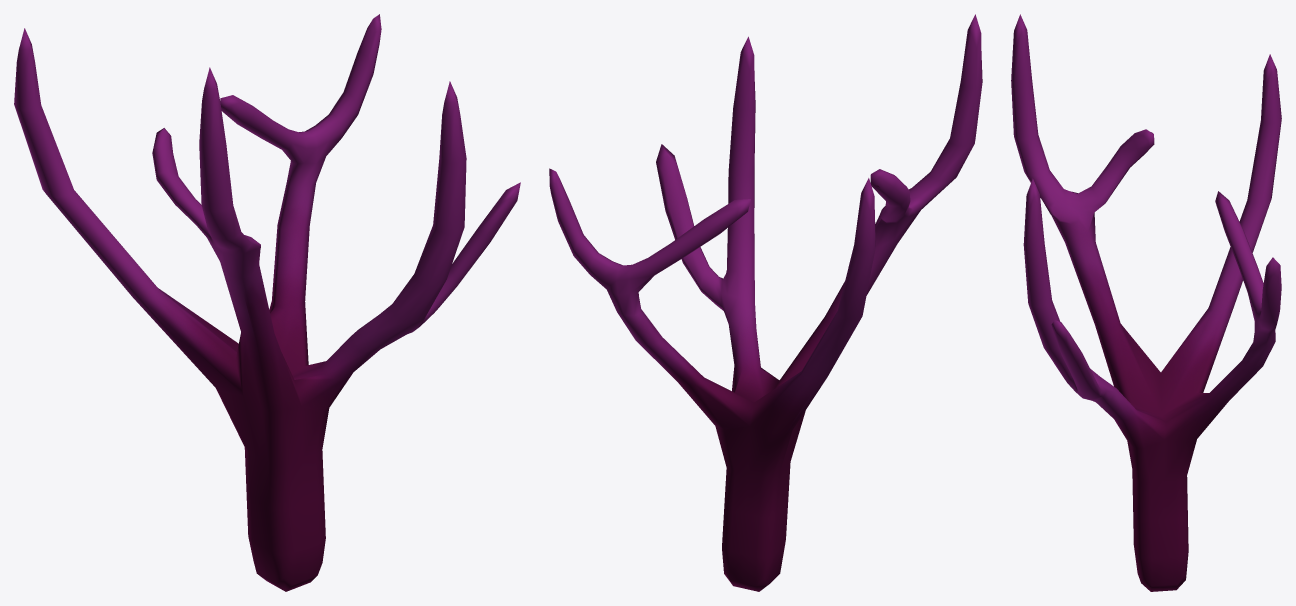
Rendered from Coral01.fbx.
The picture shows the model from 3 angles, left to right: view 1: azimuth 30°, elevation 25°; view 2: azimuth 150°, elevation 25°; view 3: azimuth 270°, elevation 25°; orthographic projection. The views are drawn at different scales.
Visible parts, largest first — view 1: pCube2; view 2: pCube2; view 3: pCube2.
Part boxes in pixels (<box>): pCube2: <box>14,14,520,591</box>; pCube2: <box>549,14,982,591</box>; pCube2: <box>1011,14,1281,591</box>.
Bounding box in the file's own units: 129 × 205 × 99.36.
